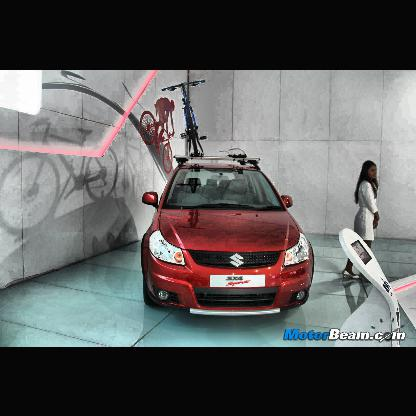Suzuki SX4 Hatchback 2012: (140, 155, 316, 317)
